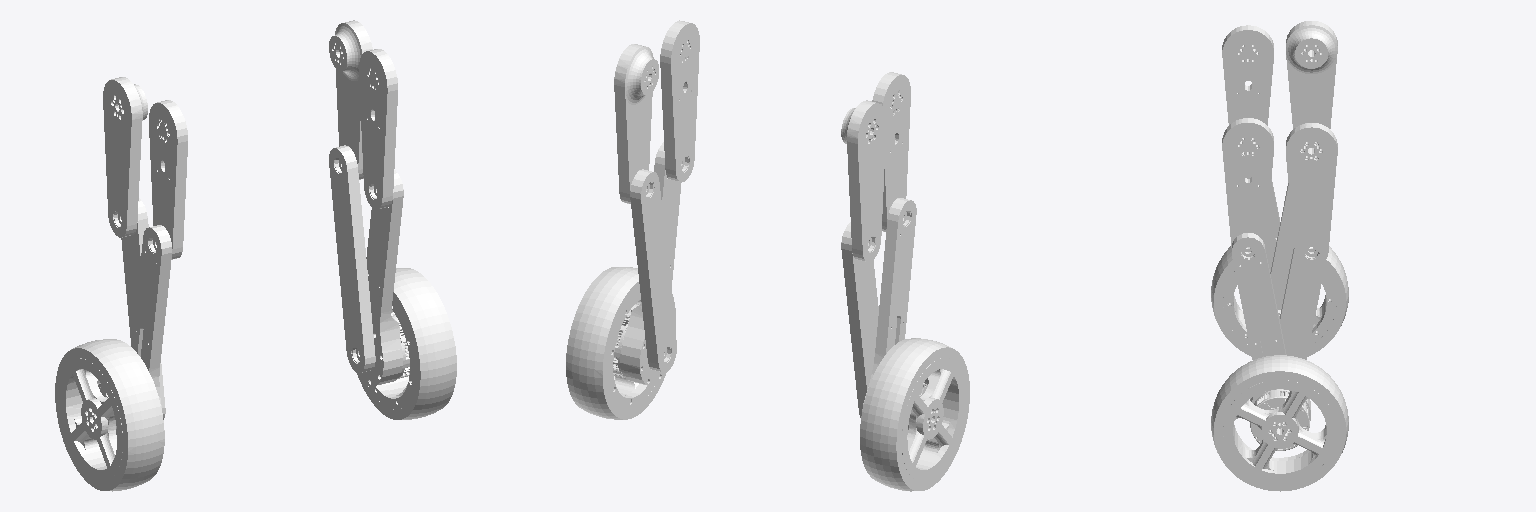
URDF robot description (wheel_robot_withlidar):
<?xml version="1.0" encoding="utf-8"?>
<!-- Regenerated from slash.xml (MuJoCo MJCF): link/joint parameters and
     inertials come from the MJCF; base_footprint is ROS-specific. -->
<robot name="wheel_robot_withlidar">
  <!-- ====================== base_footprint ====================== -->
  <link name="base_footprint">
    <inertial>
      <origin xyz="0 0 0" rpy="0 0 0"/>
      <mass value="0.0001" />
      <inertia ixx="0.0001" ixy="0.0" ixz="0.0" iyy="0.0001" iyz="0.0" izz="0.0001"/>
    </inertial>
  </link>

  <joint name="base_footprint_joint" type="fixed">
    <origin xyz="0 0 0.5" rpy="0 0 0"/>
    <parent link="base_footprint"/>
    <child link="base_link"/>
    <axis xyz="0 0 0"/>
  </joint>
  <link name="base_link">
    <inertial>
      <origin xyz="0 0 0.15" rpy="0 0 0" />
      <mass value="4.80555" />
      <inertia ixx="0.0270021" ixy="0" ixz="0" iyy="0.0254651" iyz="0" izz="0.0207886" />
    </inertial>
    <visual>
      <origin xyz="0 0 0" rpy="0 0 0" />
      <geometry>
        <mesh filename="package://wheel_robot_withlidar/meshes/base_link.STL" />
      </geometry>
      <material name="">
        <color rgba="0.752941176470588 0.752941176470588 0.752941176470588 1" />
      </material>
    </visual>
    <collision>
      <origin xyz="0 0 0" rpy="0 0 0" />
      <geometry>
        <mesh filename="package://wheel_robot_withlidar/meshes/base_link.STL" />
      </geometry>
    </collision>
  </link>
  <link name="lf_link1">
    <inertial>
      <origin xyz="0.0515145 -8.07809e-10 -0.0204019" rpy="0 0 0" />
      <mass value="0.192042" />
      <inertia ixx="6.15845838381e-05" ixy="0" ixz="2.07538480508e-05" iyy="0.000593442" iyz="0" izz="0.000638459316162" />
    </inertial>
    <visual>
      <origin xyz="0 0 0" rpy="0 0 0" />
      <geometry>
        <mesh filename="package://wheel_robot_withlidar/meshes/lf_link1.STL" />
      </geometry>
      <material name="">
        <color rgba="1 1 1 1" />
      </material>
    </visual>
    <collision>
      <origin xyz="0 0 0" rpy="0 0 0" />
      <geometry>
        <mesh filename="package://wheel_robot_withlidar/meshes/lf_link1.STL" />
      </geometry>
    </collision>
  </link>
  <joint name="lf_joint1" type="revolute">
    <origin xyz="-0.1395 0.0436361 0.06" rpy="0 1.57079630572 0" />
    <parent link="base_link" />
    <child link="lf_link1" />
    <axis xyz="0 0 1" />
    <limit lower="0" upper="1.54" effort="100" velocity="5" />
    <dynamics damping="0.02" friction="0.0" />
  </joint>
  <link name="lf_link2">
    <inertial>
      <origin xyz="-0.12 0 0.0075" rpy="0 0 0" />
      <mass value="0.177913" />
      <inertia ixx="3.34802e-05" ixy="0" ixz="2.5044637475e-19" iyy="0.00106756" iyz="0" izz="0.00109443" />
    </inertial>
    <visual>
      <origin xyz="0 0 0" rpy="0 0 0" />
      <geometry>
        <mesh filename="package://wheel_robot_withlidar/meshes/lf_link2.STL" />
      </geometry>
      <material name="">
        <color rgba="1 1 1 1" />
      </material>
    </visual>
    <collision>
      <origin xyz="0 0 0" rpy="0 0 0" />
      <geometry>
        <mesh filename="package://wheel_robot_withlidar/meshes/lf_link2.STL" />
      </geometry>
    </collision>
  </link>
  <joint name="lf_joint2" type="revolute">
    <origin xyz="0.15 0 0" rpy="3.14159265359 0 2.96357044647" />
    <parent link="lf_link1" />
    <child link="lf_link2" />
    <axis xyz="0 0 1" />
    <limit lower="-3.14" upper="3.14" effort="100" velocity="5" />
    <dynamics damping="0.02" friction="0.0" />
  </joint>
  <link name="lb_link1">
    <inertial>
      <origin xyz="0.0601741 0 -0.00749392" rpy="0 0 0" />
      <mass value="0.162669" />
      <inertia ixx="5.07121072786e-05" ixy="0" ixz="5.984559187e-08" iyy="0.000498125" iyz="0" izz="0.000542772992721" />
    </inertial>
    <visual>
      <origin xyz="0 0 0" rpy="0 0 0" />
      <geometry>
        <mesh filename="package://wheel_robot_withlidar/meshes/lb_link1.STL" />
      </geometry>
      <material name="">
        <color rgba="1 1 1 1" />
      </material>
    </visual>
    <collision>
      <origin xyz="0 0 0" rpy="0 0 0" />
      <geometry>
        <mesh filename="package://wheel_robot_withlidar/meshes/lb_link1.STL" />
      </geometry>
    </collision>
  </link>
  <joint name="lb_joint1" type="revolute">
    <origin xyz="-0.1395 -0.0413639 0.06" rpy="0 1.57079630572 0" />
    <parent link="base_link" />
    <child link="lb_link1" />
    <axis xyz="0 0 -1" />
    <limit lower="0" upper="1.54" effort="100" velocity="5" />
    <dynamics damping="0.02" friction="0.0" />
  </joint>
  <link name="lb_link2">
    <inertial>
      <origin xyz="-0.183607 7.48841e-05 0.0189316" rpy="0 0 0" />
      <mass value="0.365755" />
      <inertia ixx="0.000145046869392" ixy="-1.48295475499e-08" ixz="3.74981023334e-05" iyy="0.00200627006089" iyz="8.37112528413e-08" izz="0.00211956806972" />
    </inertial>
    <visual>
      <origin xyz="0 0 0" rpy="0 0 0" />
      <geometry>
        <mesh filename="package://wheel_robot_withlidar/meshes/lb_link2.STL" />
      </geometry>
      <material name="">
        <color rgba="1 1 1 1" />
      </material>
    </visual>
    <collision>
      <origin xyz="0 0 0" rpy="0 0 0" />
      <geometry>
        <mesh filename="package://wheel_robot_withlidar/meshes/lb_link2.STL" />
      </geometry>
    </collision>
  </link>
  <joint name="lb_joint2" type="revolute">
    <origin xyz="0.15 0 -0.015" rpy="3.14159265359 0 -2.96357044647" />
    <parent link="lb_link1" />
    <child link="lb_link2" />
    <axis xyz="0 0 -1" />
    <limit lower="-3.14" upper="3.14" effort="100" velocity="5" />
    <dynamics damping="0.02" friction="0.0" />
  </joint>
  <link name="l_wheel_link">
    <inertial>
      <origin xyz="0.0272291 -7.60454e-08 -2.23596e-07" rpy="0 0 0" />
      <mass value="0.813353" />
      <inertia ixx="0.00452269" ixy="0" ixz="0" iyy="0.0023881189296" iyz="4.58532274688e-08" izz="0.0023882110704" />
    </inertial>
    <visual>
      <origin xyz="0 0 0" rpy="0 0 0" />
      <geometry>
        <mesh filename="package://wheel_robot_withlidar/meshes/l_wheel_link.STL" />
      </geometry>
      <material name="">
        <color rgba="1 1 1 1" />
      </material>
    </visual>
    <collision>
      <origin xyz="0 0 0" rpy="0 0 0" />
      <geometry>
        <mesh filename="package://wheel_robot_withlidar/meshes/l_wheel_link.STL" />
      </geometry>
    </collision>
  </link>
  <joint name="l_wheel_joint" type="continuous">
    <origin xyz="-0.24 0 0.02455" rpy="2.48976976789 -1.57079631189 0" />
    <parent link="lb_link2" />
    <child link="l_wheel_link" />
    <axis xyz="-1 0 0" />
    <dynamics damping="0.02" friction="0.0" />
  </joint>
  <link name="rf_link1">
    <inertial>
      <origin xyz="0.0515145 -8.07818e-10 -0.0204019" rpy="0 0 0" />
      <mass value="0.192042" />
      <inertia ixx="6.15845838381e-05" ixy="0" ixz="2.07538480508e-05" iyy="0.000593442" iyz="0" izz="0.000638459316162" />
    </inertial>
    <visual>
      <origin xyz="0 0 0" rpy="0 0 0" />
      <geometry>
        <mesh filename="package://wheel_robot_withlidar/meshes/rf_link1.STL" />
      </geometry>
      <material name="">
        <color rgba="1 1 1 1" />
      </material>
    </visual>
    <collision>
      <origin xyz="0 0 0" rpy="0 0 0" />
      <geometry>
        <mesh filename="package://wheel_robot_withlidar/meshes/rf_link1.STL" />
      </geometry>
    </collision>
  </link>
  <joint name="rf_joint1" type="revolute">
    <origin xyz="0.1395 0.0436361 0.06" rpy="3.14159265359 1.57079630572 0" />
    <parent link="base_link" />
    <child link="rf_link1" />
    <axis xyz="0 0 -1" />
    <limit lower="0" upper="1.54" effort="100" velocity="5" />
    <dynamics damping="0.02" friction="0.0" />
  </joint>
  <link name="rf_link2">
    <inertial>
      <origin xyz="0.12 0 -0.0075" rpy="0 0 0" />
      <mass value="0.177913" />
      <inertia ixx="3.34802e-05" ixy="0" ixz="2.5044637475e-19" iyy="0.00106756" iyz="0" izz="0.00109443" />
    </inertial>
    <visual>
      <origin xyz="0 0 0" rpy="0 0 0" />
      <geometry>
        <mesh filename="package://wheel_robot_withlidar/meshes/rf_link2.STL" />
      </geometry>
      <material name="">
        <color rgba="1 1 1 1" />
      </material>
    </visual>
    <collision>
      <origin xyz="0 0 0" rpy="0 0 0" />
      <geometry>
        <mesh filename="package://wheel_robot_withlidar/meshes/rf_link2.STL" />
      </geometry>
    </collision>
  </link>
  <joint name="rf_joint2" type="revolute">
    <origin xyz="0.15 0 0" rpy="0 0 0.178022207117" />
    <parent link="rf_link1" />
    <child link="rf_link2" />
    <axis xyz="0 0 -1" />
    <limit lower="-3.14" upper="3.14" effort="100" velocity="5" />
    <dynamics damping="0.02" friction="0.0" />
  </joint>
  <link name="rb_link1">
    <inertial>
      <origin xyz="0.0601741 0 -0.00749392" rpy="0 0 0" />
      <mass value="0.162669" />
      <inertia ixx="5.07121072786e-05" ixy="0" ixz="5.984559187e-08" iyy="0.000498125" iyz="0" izz="0.000542772992721" />
    </inertial>
    <visual>
      <origin xyz="0 0 0" rpy="0 0 0" />
      <geometry>
        <mesh filename="package://wheel_robot_withlidar/meshes/rb_link1.STL" />
      </geometry>
      <material name="">
        <color rgba="1 1 1 1" />
      </material>
    </visual>
    <collision>
      <origin xyz="0 0 0" rpy="0 0 0" />
      <geometry>
        <mesh filename="package://wheel_robot_withlidar/meshes/rb_link1.STL" />
      </geometry>
    </collision>
  </link>
  <joint name="rb_joint1" type="revolute">
    <origin xyz="0.1395 -0.0413639 0.06" rpy="3.14159265359 1.57079630572 0" />
    <parent link="base_link" />
    <child link="rb_link1" />
    <axis xyz="0 0 1" />
    <limit lower="0" upper="1.54" effort="100" velocity="5" />
    <dynamics damping="0.02" friction="0.0" />
  </joint>
  <link name="rb_link2">
    <inertial>
      <origin xyz="-0.183607 7.48838e-05 0.0189316" rpy="0 0 0" />
      <mass value="0.365755" />
      <inertia ixx="0.000145046869392" ixy="-1.48287622452e-08" ixz="3.74981023334e-05" iyy="0.00200627006089" iyz="8.37157531028e-08" izz="0.00211956806972" />
    </inertial>
    <visual>
      <origin xyz="0 0 0" rpy="0 0 0" />
      <geometry>
        <mesh filename="package://wheel_robot_withlidar/meshes/rb_link2.STL" />
      </geometry>
      <material name="">
        <color rgba="1 1 1 1" />
      </material>
    </visual>
    <collision>
      <origin xyz="0 0 0" rpy="0 0 0" />
      <geometry>
        <mesh filename="package://wheel_robot_withlidar/meshes/rb_link2.STL" />
      </geometry>
    </collision>
  </link>
  <joint name="rb_joint2" type="revolute">
    <origin xyz="0.15 0 -0.015" rpy="3.14159265359 0 2.96357044647" />
    <parent link="rb_link1" />
    <child link="rb_link2" />
    <axis xyz="0 0 1" />
    <limit lower="-3.14" upper="3.14" effort="100" velocity="5" />
    <dynamics damping="0.02" friction="0.0" />
  </joint>
  <link name="r_wheel_lilnk">
    <inertial>
      <origin xyz="0.0272291 1.61372e-07 -1.72445e-07" rpy="0 0 0" />
      <mass value="0.813353" />
      <inertia ixx="0.00452269" ixy="0" ixz="0" iyy="0.00238815248844" iyz="-6.37844876253e-08" izz="0.00238817751156" />
    </inertial>
    <visual>
      <origin xyz="0 0 0" rpy="0 0 0" />
      <geometry>
        <mesh filename="package://wheel_robot_withlidar/meshes/r_wheel_link.STL" />
      </geometry>
      <material name="">
        <color rgba="1 1 1 1" />
      </material>
    </visual>
    <collision>
      <origin xyz="0 0 0" rpy="0 0 0" />
      <geometry>
        <mesh filename="package://wheel_robot_withlidar/meshes/r_wheel_link.STL" />
      </geometry>
    </collision>
  </link>
  <joint name="r_wheel_joint" type="continuous">
    <origin xyz="-0.24 0 0.02455" rpy="1.39519479784 -1.57079630572 0" />
    <parent link="rb_link2" />
    <child link="r_wheel_lilnk" />
    <axis xyz="1 0 0" />
    <dynamics damping="0.02" friction="0.0" />
  </joint>
  <link name="lidar_link">
    <inertial>
      <origin xyz="0.000833804 -0.000785559 0.0431386" rpy="0 0 0" />
      <mass value="0.21408" />
      <inertia ixx="6.696096096e-05" ixy="-1.34406698801e-06" ixz="-1.82176508899e-07" iyy="6.85509030096e-05" iyz="-1.06370206068e-07" izz="0.00011236003603" />
    </inertial>
    <visual>
      <origin xyz="0 0 0" rpy="0 0 0" />
      <geometry>
        <mesh filename="package://wheel_robot_withlidar/meshes/lidar_link.STL" />
      </geometry>
      <material name="">
        <color rgba="1 1 1 1" />
      </material>
    </visual>
    <collision>
      <origin xyz="0 0 0" rpy="0 0 0" />
      <geometry>
        <mesh filename="package://wheel_robot_withlidar/meshes/lidar_link.STL" />
      </geometry>
    </collision>
  </link>
  <joint name="lidar_joint_fix" type="fixed">
    <origin xyz="0 0.065 0.24" rpy="0 0 -2.09439469861" />
    <parent link="base_link" />
    <child link="lidar_link" />
    <axis xyz="0 0 0" />
  </joint>
</robot>

--- What the picture shows (computed from the rendered views, not written in the file) ---
The picture shows the robot from 3 angles, left to right: view 1: azimuth 30°, elevation 25°; view 2: azimuth 150°, elevation 25°; view 3: azimuth 270°, elevation 25°; orthographic projection.
Model wheel_robot_withlidar with 13 links and 12 joints (8 revolute, 2 continuous, 2 fixed), rooted at base_footprint, posed all joints at 0.
Visible links, largest first — view 1: l_wheel_link, r_wheel_lilnk, rf_link2, rb_link2, lf_link1, rb_link1, lb_link1, lb_link2, rf_link1, lf_link2; view 2: l_wheel_link, r_wheel_lilnk, rf_link2, lf_link1, rb_link1, rf_link1, lb_link2, lf_link2, rb_link2, lb_link1; view 3: r_wheel_lilnk, rf_link1, rb_link2, rb_link1, lf_link1, l_wheel_link, lb_link1, rf_link2, lf_link2, lb_link2.
Link boxes in pixels (x1=…): l_wheel_link: x1=55, y1=339, x2=164, y2=491; r_wheel_lilnk: x1=357, y1=268, x2=456, y2=419; rf_link2: x1=329, y1=145, x2=375, y2=372; rb_link2: x1=358, y1=170, x2=409, y2=386; lf_link1: x1=103, y1=77, x2=147, y2=237; rb_link1: x1=359, y1=49, x2=397, y2=209; lb_link1: x1=149, y1=100, x2=187, y2=259; lb_link2: x1=98, y1=225, x2=171, y2=434; rf_link1: x1=329, y1=20, x2=372, y2=179; lf_link2: x1=121, y1=198, x2=165, y2=419; l_wheel_link: x1=860, y1=338, x2=969, y2=491; r_wheel_lilnk: x1=566, y1=267, x2=675, y2=419; rf_link2: x1=630, y1=169, x2=676, y2=372; lf_link1: x1=841, y1=100, x2=886, y2=261; rb_link1: x1=660, y1=20, x2=699, y2=181; rf_link1: x1=614, y1=44, x2=658, y2=203; lb_link2: x1=862, y1=198, x2=927, y2=429; lf_link2: x1=841, y1=222, x2=878, y2=417; rb_link2: x1=613, y1=142, x2=681, y2=385; lb_link1: x1=872, y1=72, x2=910, y2=231; r_wheel_lilnk: x1=1211, y1=355, x2=1348, y2=491; rf_link1: x1=1286, y1=123, x2=1337, y2=267; rb_link2: x1=1232, y1=233, x2=1310, y2=450; rb_link1: x1=1222, y1=118, x2=1273, y2=252; lf_link1: x1=1286, y1=21, x2=1337, y2=128; l_wheel_link: x1=1211, y1=246, x2=1348, y2=356; lb_link1: x1=1222, y1=25, x2=1273, y2=125; rf_link2: x1=1280, y1=248, x2=1325, y2=359; lf_link2: x1=1270, y1=183, x2=1293, y2=318; lb_link2: x1=1245, y1=173, x2=1280, y2=314.
Bounding box of the posed robot: 0.4606 × 0.1847 × 0.5136 m (x, y, z).
10 mesh visuals loaded from 12 distinct referenced files (10 binary STL); not drawn: 2 (reference not matched to a file when rendering).
